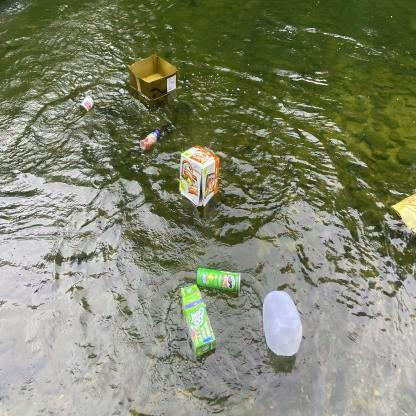Metal: (192, 266, 248, 298), (76, 92, 98, 116)
Plastic: (259, 286, 306, 362), (136, 127, 164, 154)
Trash: (389, 186, 416, 239)
